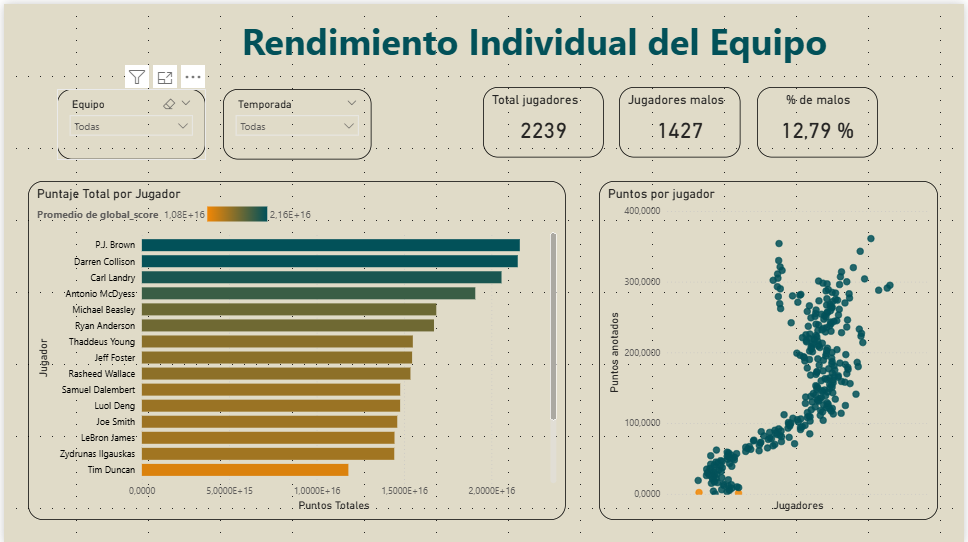

This screenshot's page, from the dashboard's own definition file:
{"tool":"powerbi","page":{"name":"Indivudual","canvas":[1280,720],"ordinal":1},"visuals":[{"type":"slicer","title":"Equipo","fields":{"Values":["nba_puntaje_vara.team_abbreviation"]},"box":[71.1,113.3,197.8,94.4],"z":0},{"type":"clusteredBarChart","title":"Puntaje Total por Jugador","fields":{"Category":["nba_puntaje_vara.player_name"],"Y":["Avg(nba_puntaje_vara.global_score)"]},"box":[32.5,236.1,716.6,452.2],"z":1000},{"type":"slicer","fields":{"Values":["nba_puntaje_vara.season"]},"box":[292.2,113.3,197.8,94.4],"z":2000},{"type":"card","title":"Total jugadores","fields":{"Values":["Count(nba_puntaje_vara.player_name)"]},"box":[638.9,111.1,161.1,94.4],"z":3000},{"type":"card","title":"Jugadores malos","fields":{"Values":["Metricas.cantidad_malos"]},"box":[820,111.1,162.2,94.4],"z":4000},{"type":"card","title":"% de malos","fields":{"Values":["Medidas.%malos_jugadores"]},"box":[1004.4,111.1,161.1,94.4],"z":5000},{"type":"scatterChart","title":"Puntos por jugador","fields":{"X":["Avg(nba_puntaje_vara.global_score)"],"Y":["nba_puntaje_vara.pts"]},"box":[793.3,235.6,452.2,452.2],"z":6000},{"type":"textbox","box":[312.5,10.9,813.1,76],"z":7000}]}

Visuals, with their boxes in screenshot pixels (x1, y1, x2, y2), scaled from the page's 1280x720 canvas onto the 968x542 screenshot:
"Equipo" slicer: (left=54, top=85, right=203, bottom=156)
"Puntaje Total por Jugador" clusteredBarChart: (left=25, top=178, right=567, bottom=518)
slicer - nba_puntaje_vara.season: (left=221, top=85, right=371, bottom=156)
"Total jugadores" card: (left=483, top=84, right=605, bottom=155)
"Jugadores malos" card: (left=620, top=84, right=743, bottom=155)
"% de malos" card: (left=760, top=84, right=881, bottom=155)
"Puntos por jugador" scatterChart: (left=600, top=177, right=942, bottom=518)
textbox: (left=236, top=8, right=851, bottom=65)
